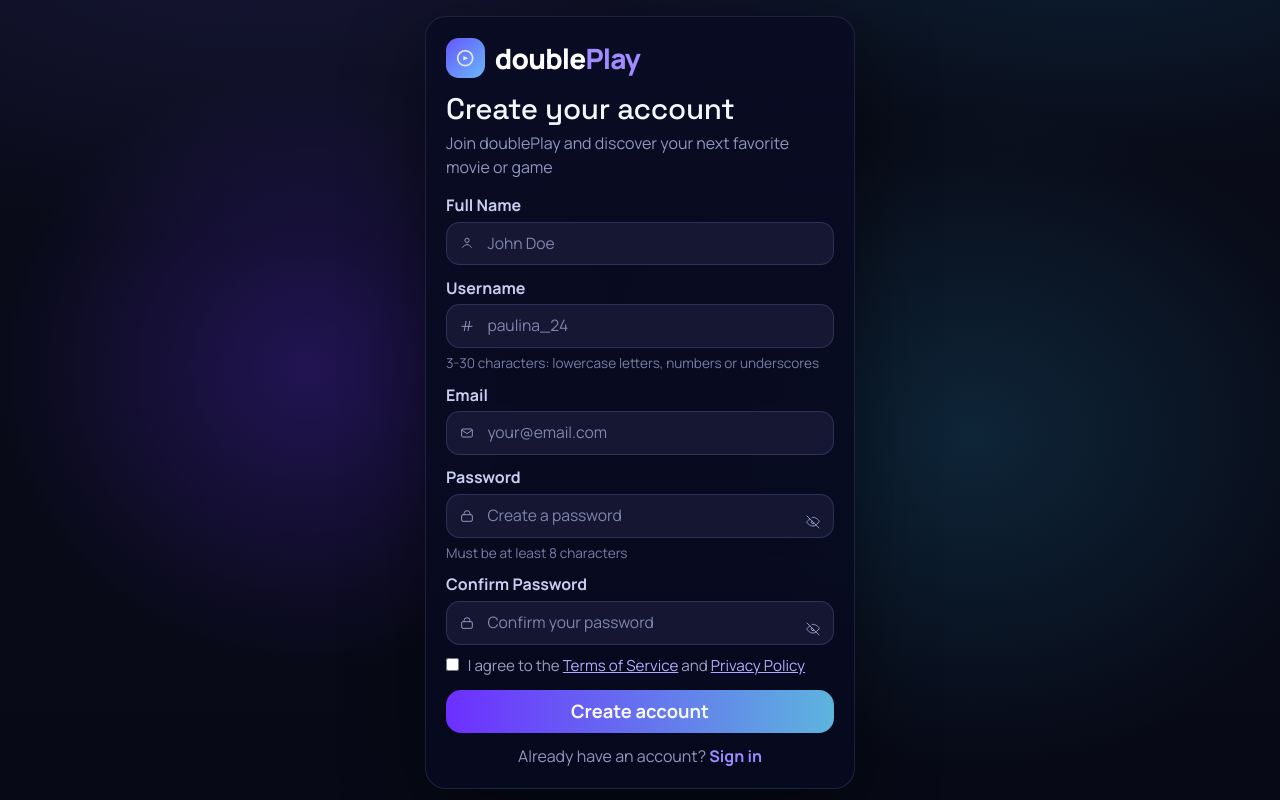
Test: Register page › opens and closes the legal modal, then returns to login
This screenshot has width=1280, height=800.
Check: the heading "Create your account" is shown, box [446,90,735,128]
Check: the text "Join doublePlay and discover your next favorite movie or game" is shown, box [446,131,834,179]
Click the link "Terms of Service" at coordinates (621, 666), box [563,655,679,676]
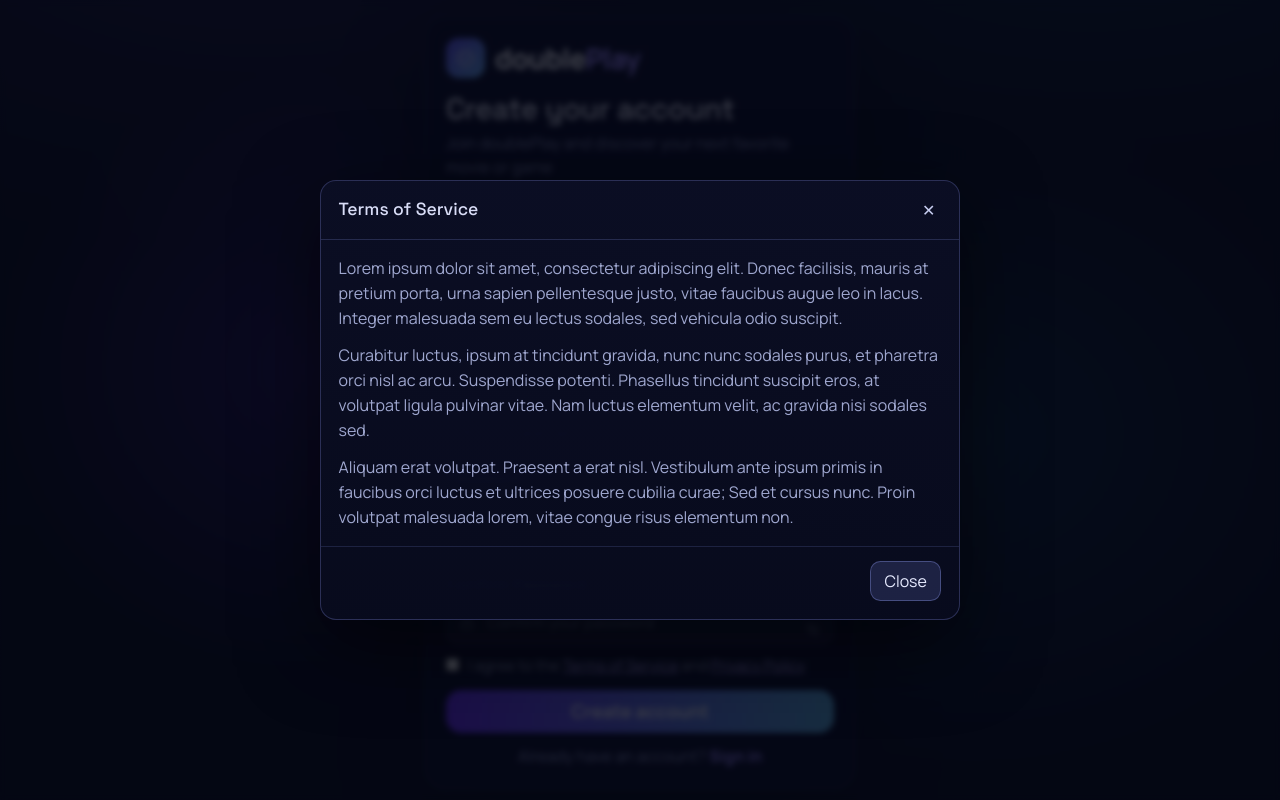
Check: the heading "Terms of Service" is shown, box [339,200,478,221]
Click the button named "Close modal" at coordinates (929, 210), box [916,197,941,223]
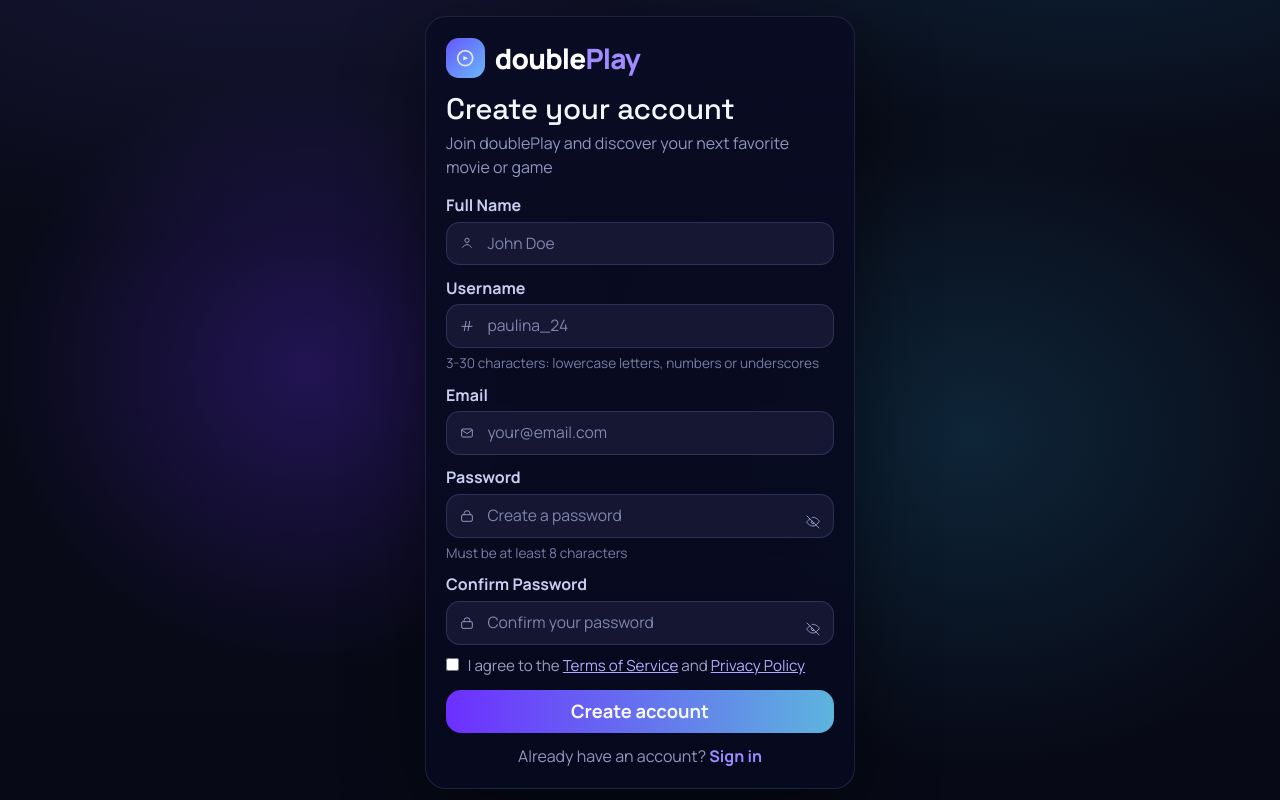
Check: the dialog with class "legal-modal" is gone
Click the link "Sign in" at coordinates (736, 756), box [709,745,762,767]
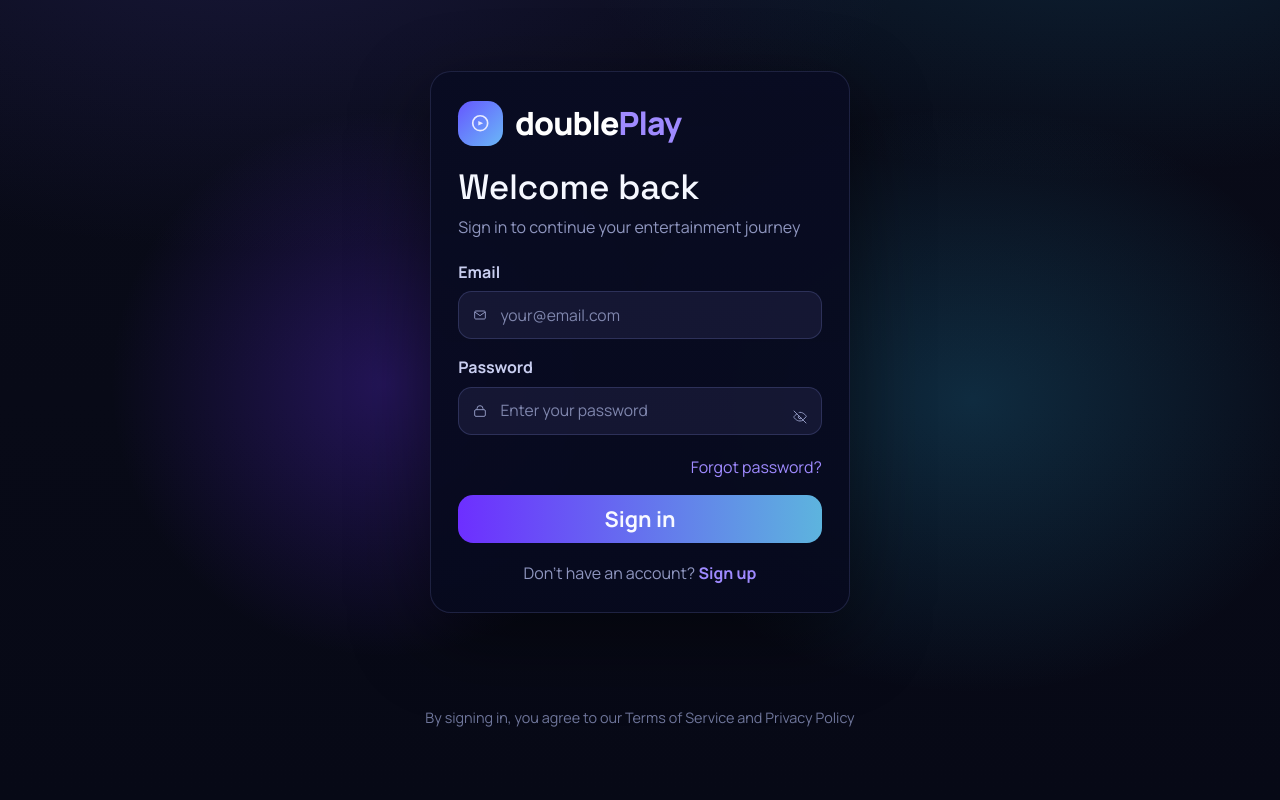
Check: the heading "Welcome back" is shown, box [458,164,699,209]
